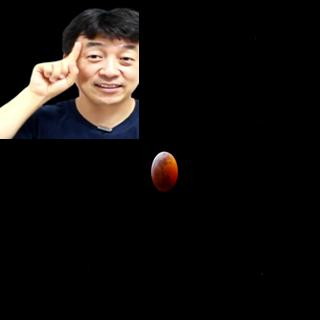IRRITATED: (23, 40, 84, 102)
